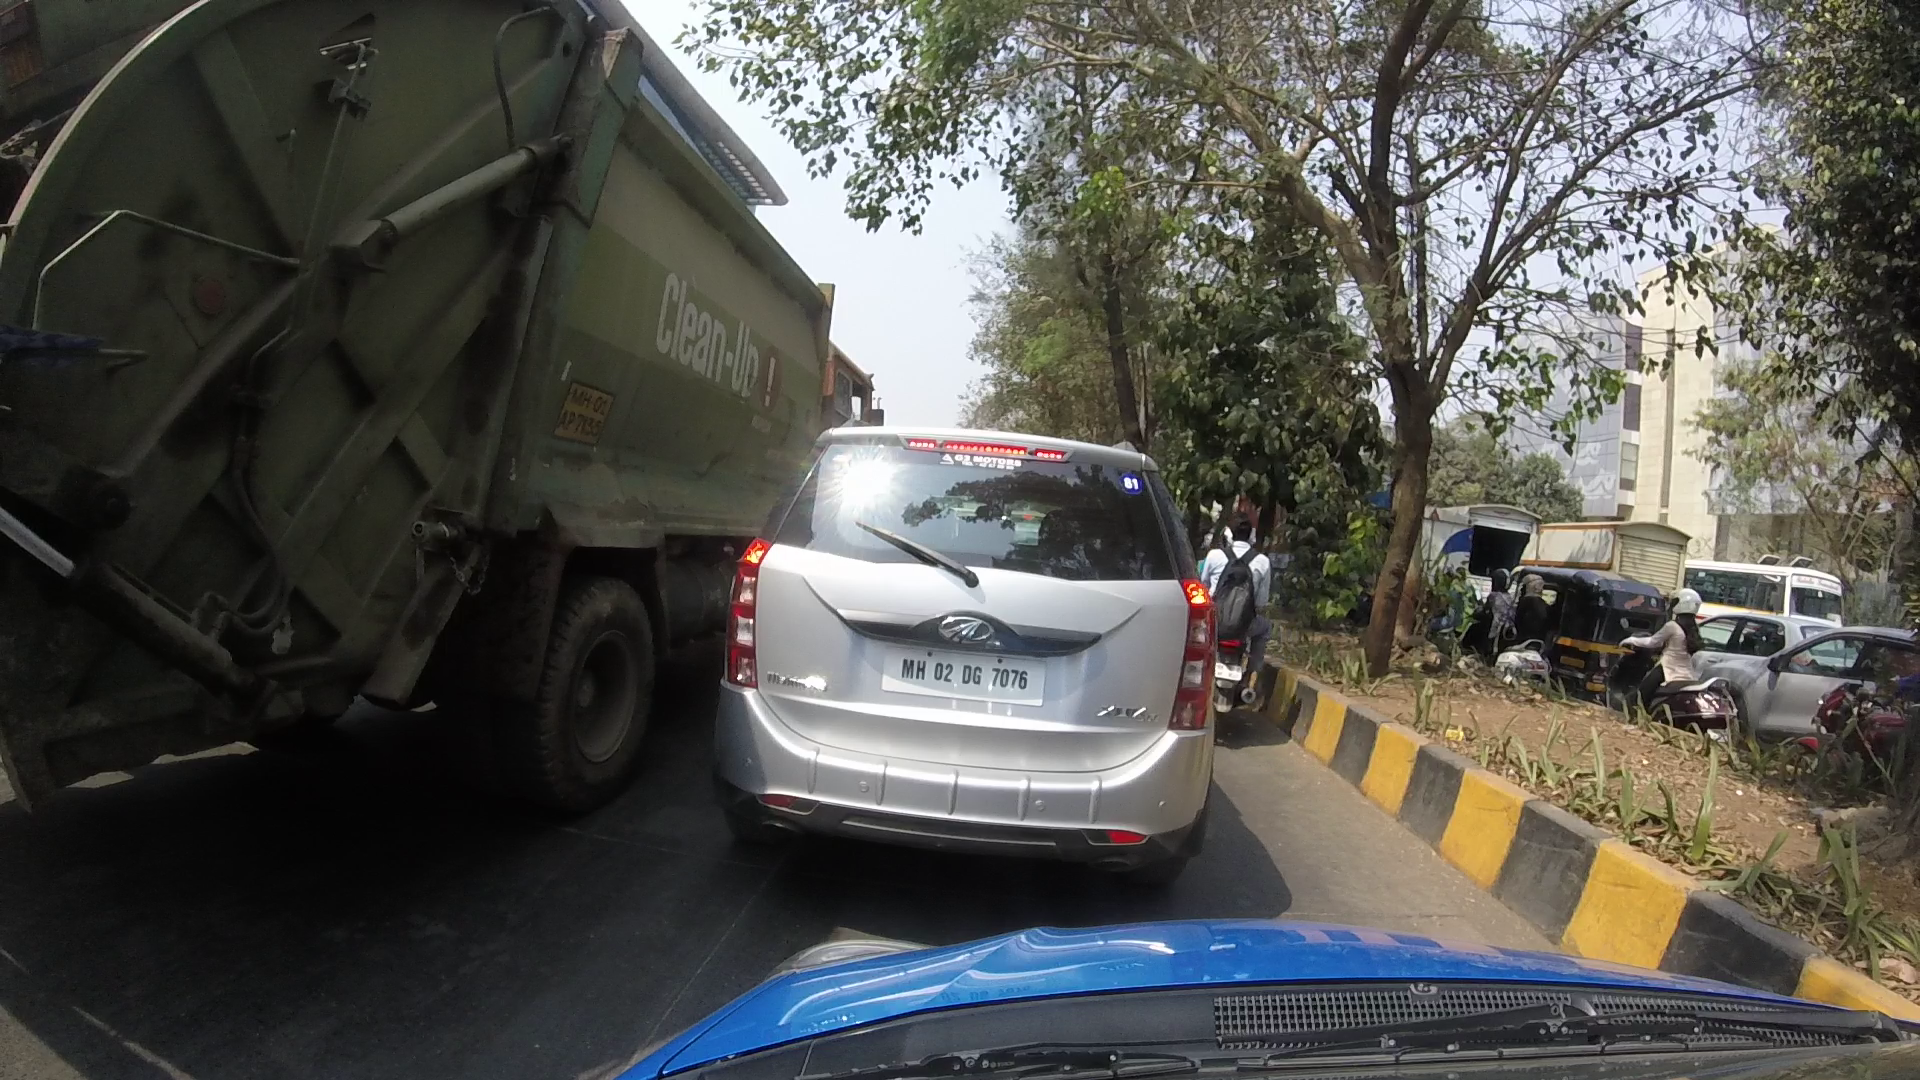bike/scooter: (1208, 501, 1269, 738)
bus: (731, 413, 1225, 857)
truck: (25, 7, 884, 807)
